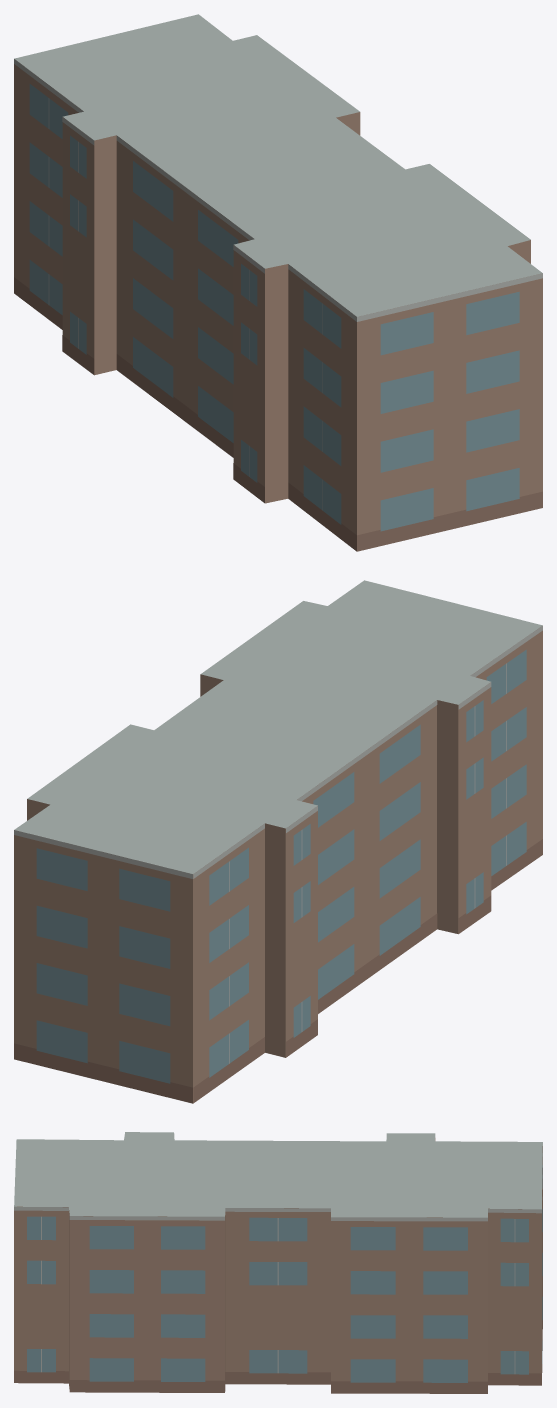
The model's file is survey-upis-32636541.glb.
3 views of the same model, one above another, from view 1: azimuth 30°, elevation 25°; view 2: azimuth 150°, elevation 25°; view 3: azimuth 270°, elevation 25° (orthographic). The views are drawn at different scales.
Parts seen in each view (by area): view 1: survey-upis-32636541.tmp; view 2: survey-upis-32636541.tmp; view 3: survey-upis-32636541.tmp.
Part boxes in pixels (x1,y1,x2,y2): survey-upis-32636541.tmp: (14,14,542,551); survey-upis-32636541.tmp: (14,580,542,1103); survey-upis-32636541.tmp: (14,1132,542,1393).
Size of the model in its own units: 11.56 by 11.1 by 30.18.
